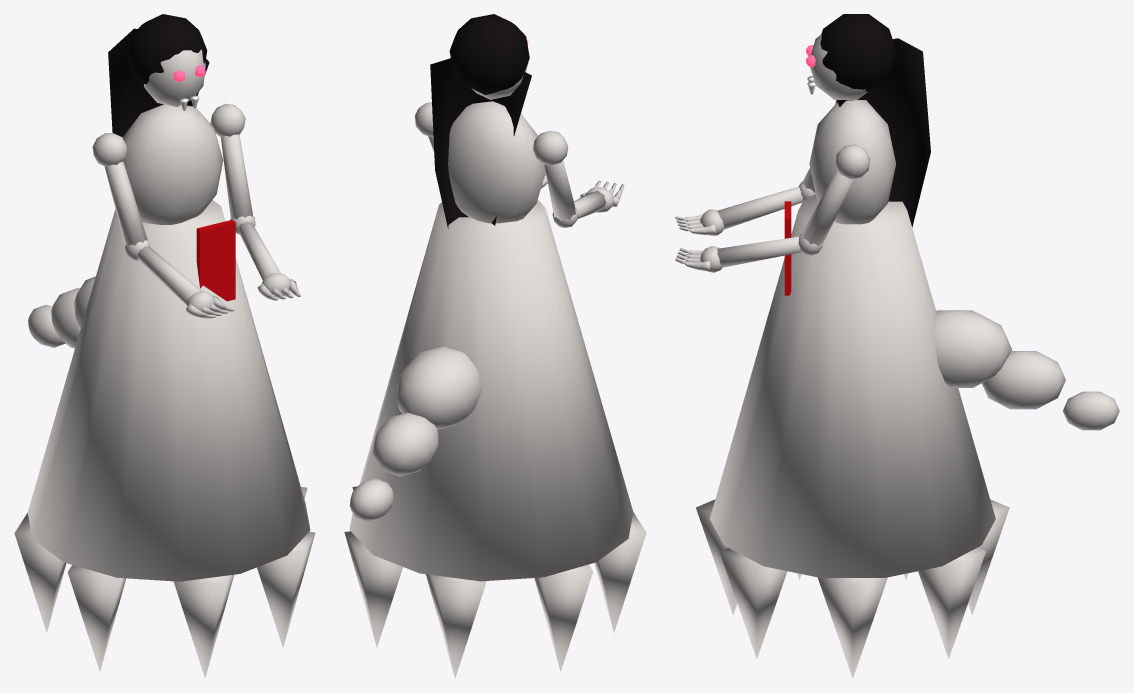
File: gothic-bride.glb
3 views of the same model, side by side, from view 1: azimuth 30°, elevation 25°; view 2: azimuth 150°, elevation 25°; view 3: azimuth 270°, elevation 25° (orthographic).
Parts seen in each view (by area): view 1: Body Mesh, Head Mesh, ArmR Mesh, ArmL Mesh, ArmR Elbow Mesh, ArmL Elbow Mesh, Tail 1 Mesh, Tail 2 Mesh, Tail 0 Mesh; view 2: Body Mesh, Head Mesh, Tail 0 Mesh, Tail 1 Mesh, ArmR Mesh, Tail 2 Mesh, ArmR Elbow Mesh, ArmL Mesh; view 3: Body Mesh, Head Mesh, Tail 0 Mesh, Tail 1 Mesh, ArmL Elbow Mesh, ArmL Mesh, ArmR Elbow Mesh, Tail 2 Mesh.
Part boxes in pixels (<box>): Body Mesh: <box>14,104,315,678</box>; Head Mesh: <box>108,14,209,137</box>; ArmR Mesh: <box>92,133,147,246</box>; ArmL Mesh: <box>210,103,252,219</box>; ArmR Elbow Mesh: <box>125,240,234,318</box>; ArmL Elbow Mesh: <box>230,215,301,300</box>; Tail 1 Mesh: <box>51,288,79,348</box>; Tail 2 Mesh: <box>28,304,65,347</box>; Tail 0 Mesh: <box>74,276,95,329</box>; Body Mesh: <box>344,101,646,678</box>; Head Mesh: <box>430,14,531,228</box>; Tail 0 Mesh: <box>396,347,482,429</box>; Tail 1 Mesh: <box>373,412,438,476</box>; ArmR Mesh: <box>533,131,575,221</box>; Tail 2 Mesh: <box>349,478,393,521</box>; ArmR Elbow Mesh: <box>552,180,624,227</box>; ArmL Mesh: <box>415,102,434,152</box>; Body Mesh: <box>696,100,1009,678</box>; Head Mesh: <box>806,14,930,227</box>; Tail 0 Mesh: <box>934,310,1011,387</box>; Tail 1 Mesh: <box>982,351,1065,409</box>; ArmL Elbow Mesh: <box>675,233,822,272</box>; ArmL Mesh: <box>801,144,870,246</box>; ArmR Elbow Mesh: <box>675,181,815,235</box>; Tail 2 Mesh: <box>1063,391,1119,430</box>.
Size of the model in its own units: 0.9043 by 1.98 by 1.31.
